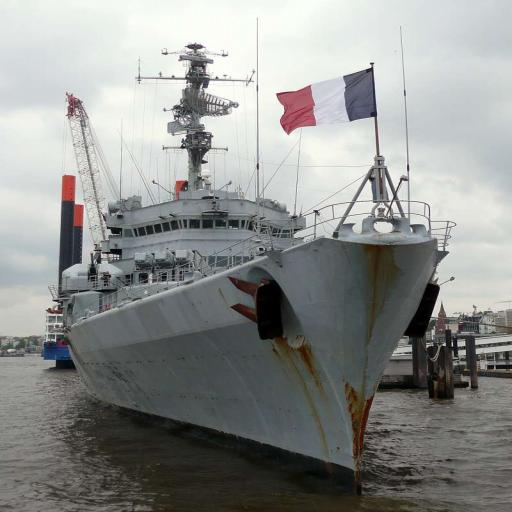Portanaves: (52, 42, 443, 500)
